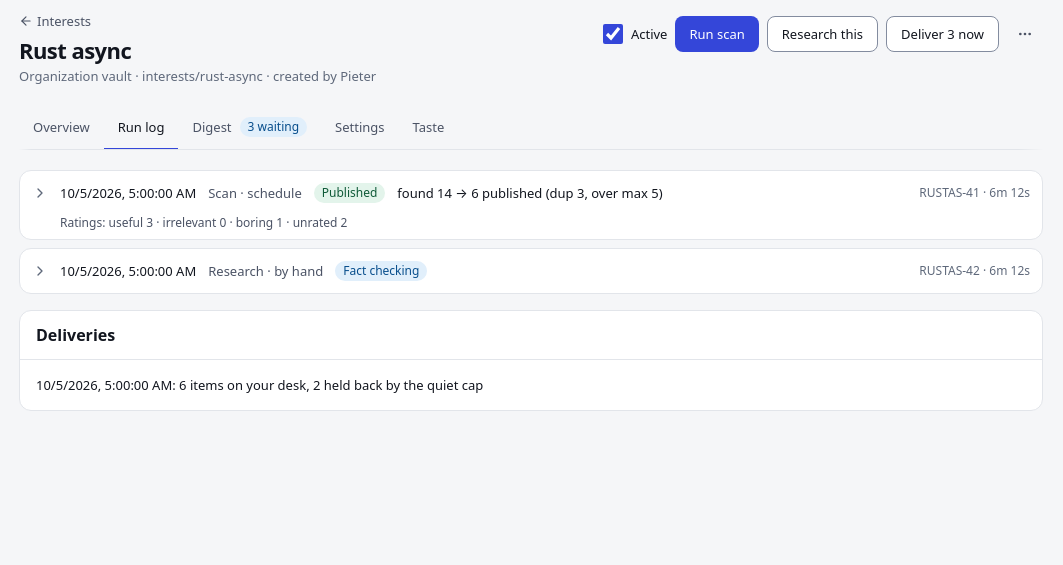
Test: Interest detail › the run log lists runs with found and published, expands to items and agents
Expected: the text with test id "run-counts" reads "found 14 → 6 published (dup 3, over max 5)", top-left (397, 184), bottom-right (663, 202)
Expected: the text with test id "run-ratings" shows "useful 3", top-left (60, 214), bottom-right (347, 231)
Click the button with test id "run-toggle" at (531, 193), box top-left (20, 171), bottom-right (1042, 215)
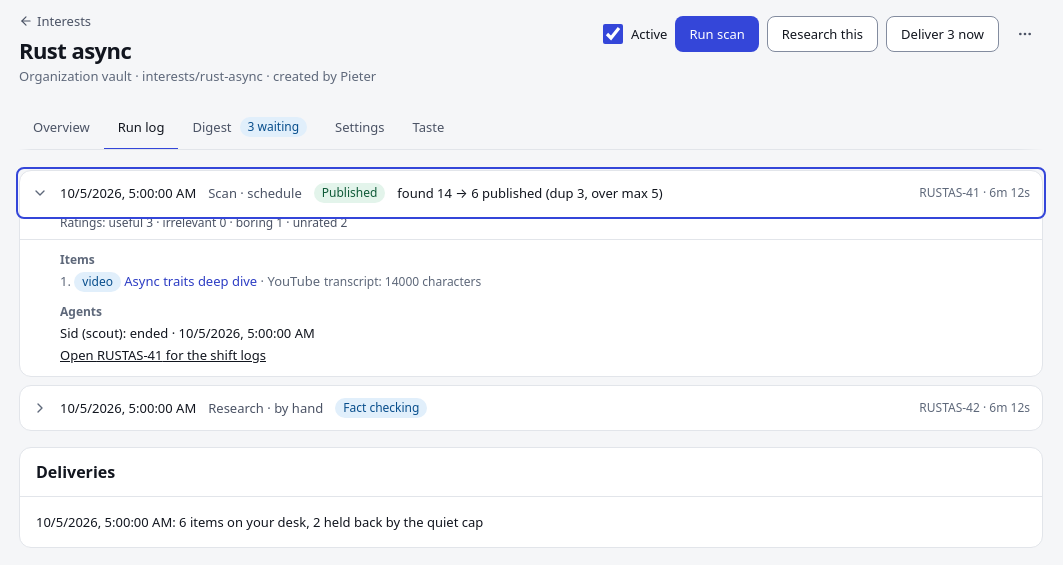
Expected: the element with test id "delivery-log" shows "6 items on your desk, 2 held back by the quiet cap", top-left (19, 447), bottom-right (1043, 548)
Expected: the list item with test id "run-item" shows "transcript: 14000 characters", top-left (60, 272), bottom-right (481, 292)
Expected: the list with test id "run-shifts" shows "Sid (scout): ended", top-left (60, 324), bottom-right (315, 342)
